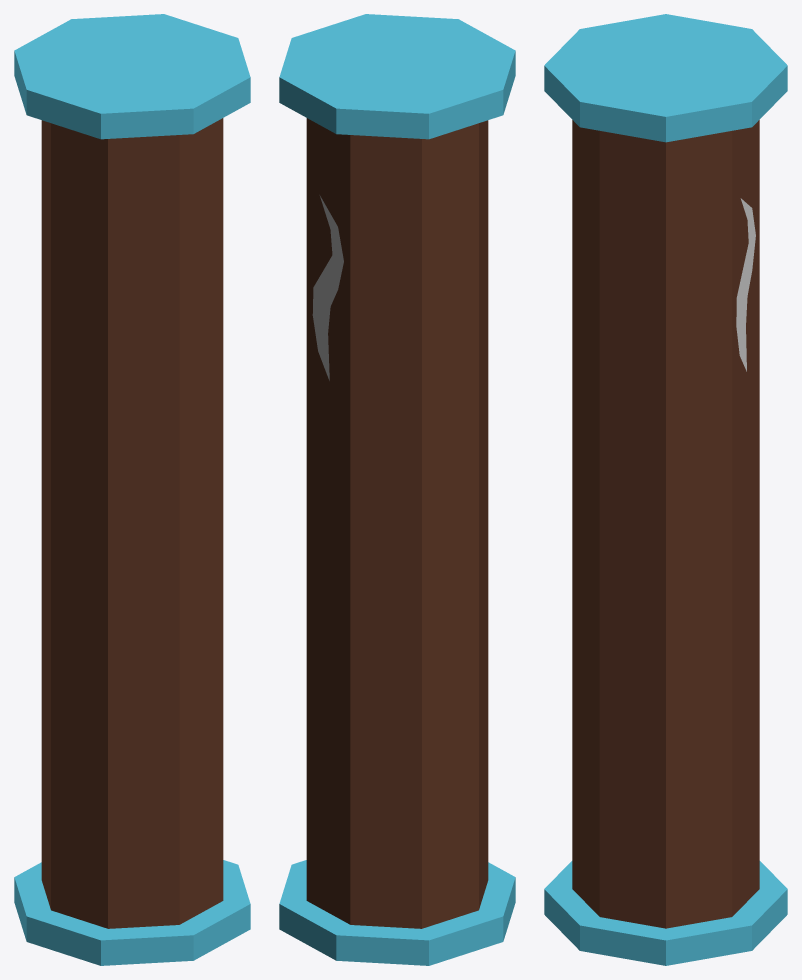
File: PipeStraight_Broken.fbx
3 views of the same model, side by side, from view 1: azimuth 30°, elevation 25°; view 2: azimuth 150°, elevation 25°; view 3: azimuth 270°, elevation 25° (orthographic).
Parts seen in each view (by area): view 1: Pipe180.001; view 2: Pipe180.001, BreachMesh; view 3: Pipe180.001, BreachMesh.
Boxes of the visible parts, x1,y1,x2,y2 form: Pipe180.001: [14, 14, 250, 965]; Pipe180.001: [279, 14, 515, 965]; BreachMesh: [312, 195, 343, 380]; Pipe180.001: [544, 14, 787, 965]; BreachMesh: [736, 198, 755, 371].
Size of the model in its own units: 26 by 100 by 26.
